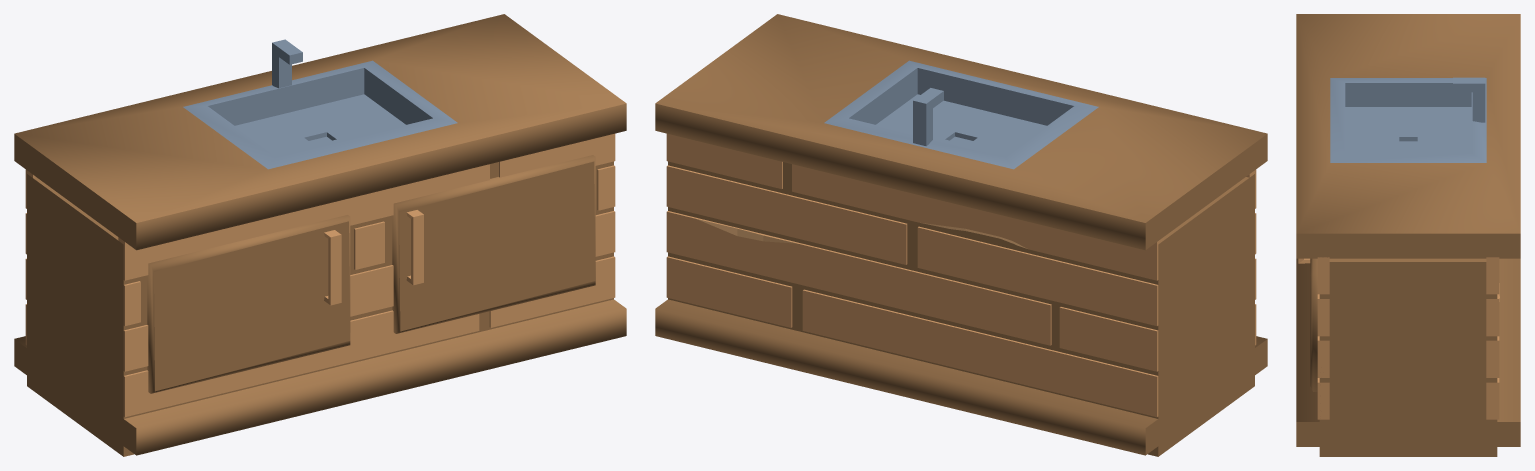
File: cc0-counter-sink-lod1.glb
3 renders of one model, left to right at view 1: azimuth 30°, elevation 25°; view 2: azimuth 150°, elevation 25°; view 3: azimuth 270°, elevation 25°, orthographic. The views are drawn at different scales.
Visible parts, largest first — view 1: part_0; view 2: part_0; view 3: part_0.
Part boxes in pixels (<box>): part_0: <box>14,14,626,456</box>; part_0: <box>655,14,1267,456</box>; part_0: <box>1296,14,1520,456</box>.
Size of the model in its own units: 4 by 2.26 by 1.73.
Materials: 1 (1 with a texture image).
